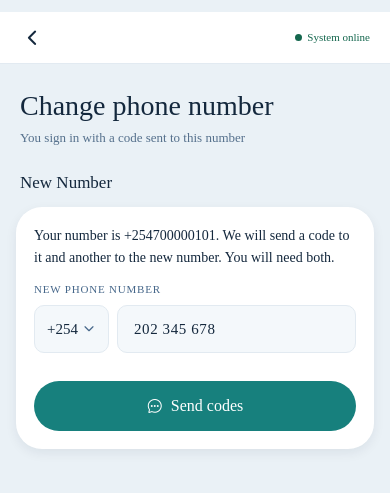
Test: changing the phone number › refuses a landline before asking the service
This screenshot has width=390, height=493.
Earlier steps of the test are not shown.
Click the button labelled "Send codes" at x=195, y=406, box top-left (34, 381), bottom-right (356, 431)
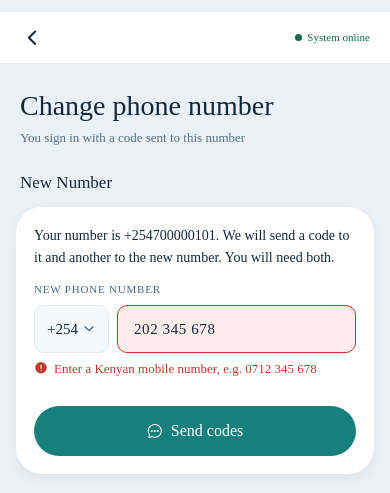
Result: the text "Enter a Kenyan mobile number, e.g. 0712 345 678" is shown at top-left (54, 359), bottom-right (356, 378)
